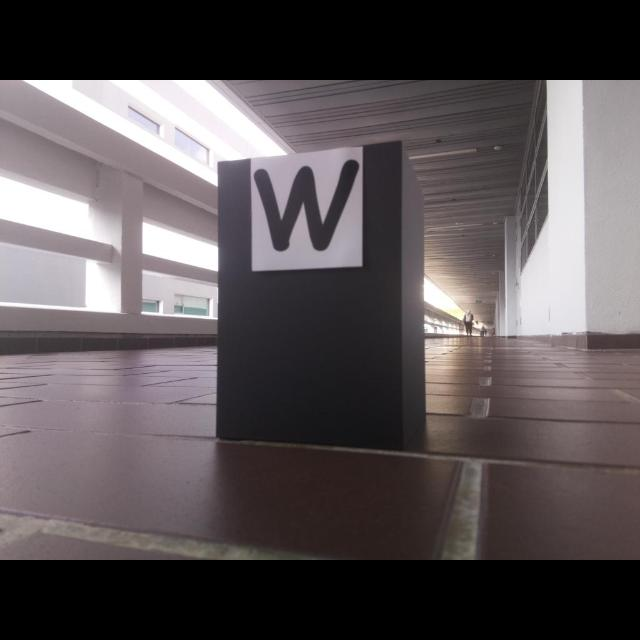W: (253, 158, 361, 253)
